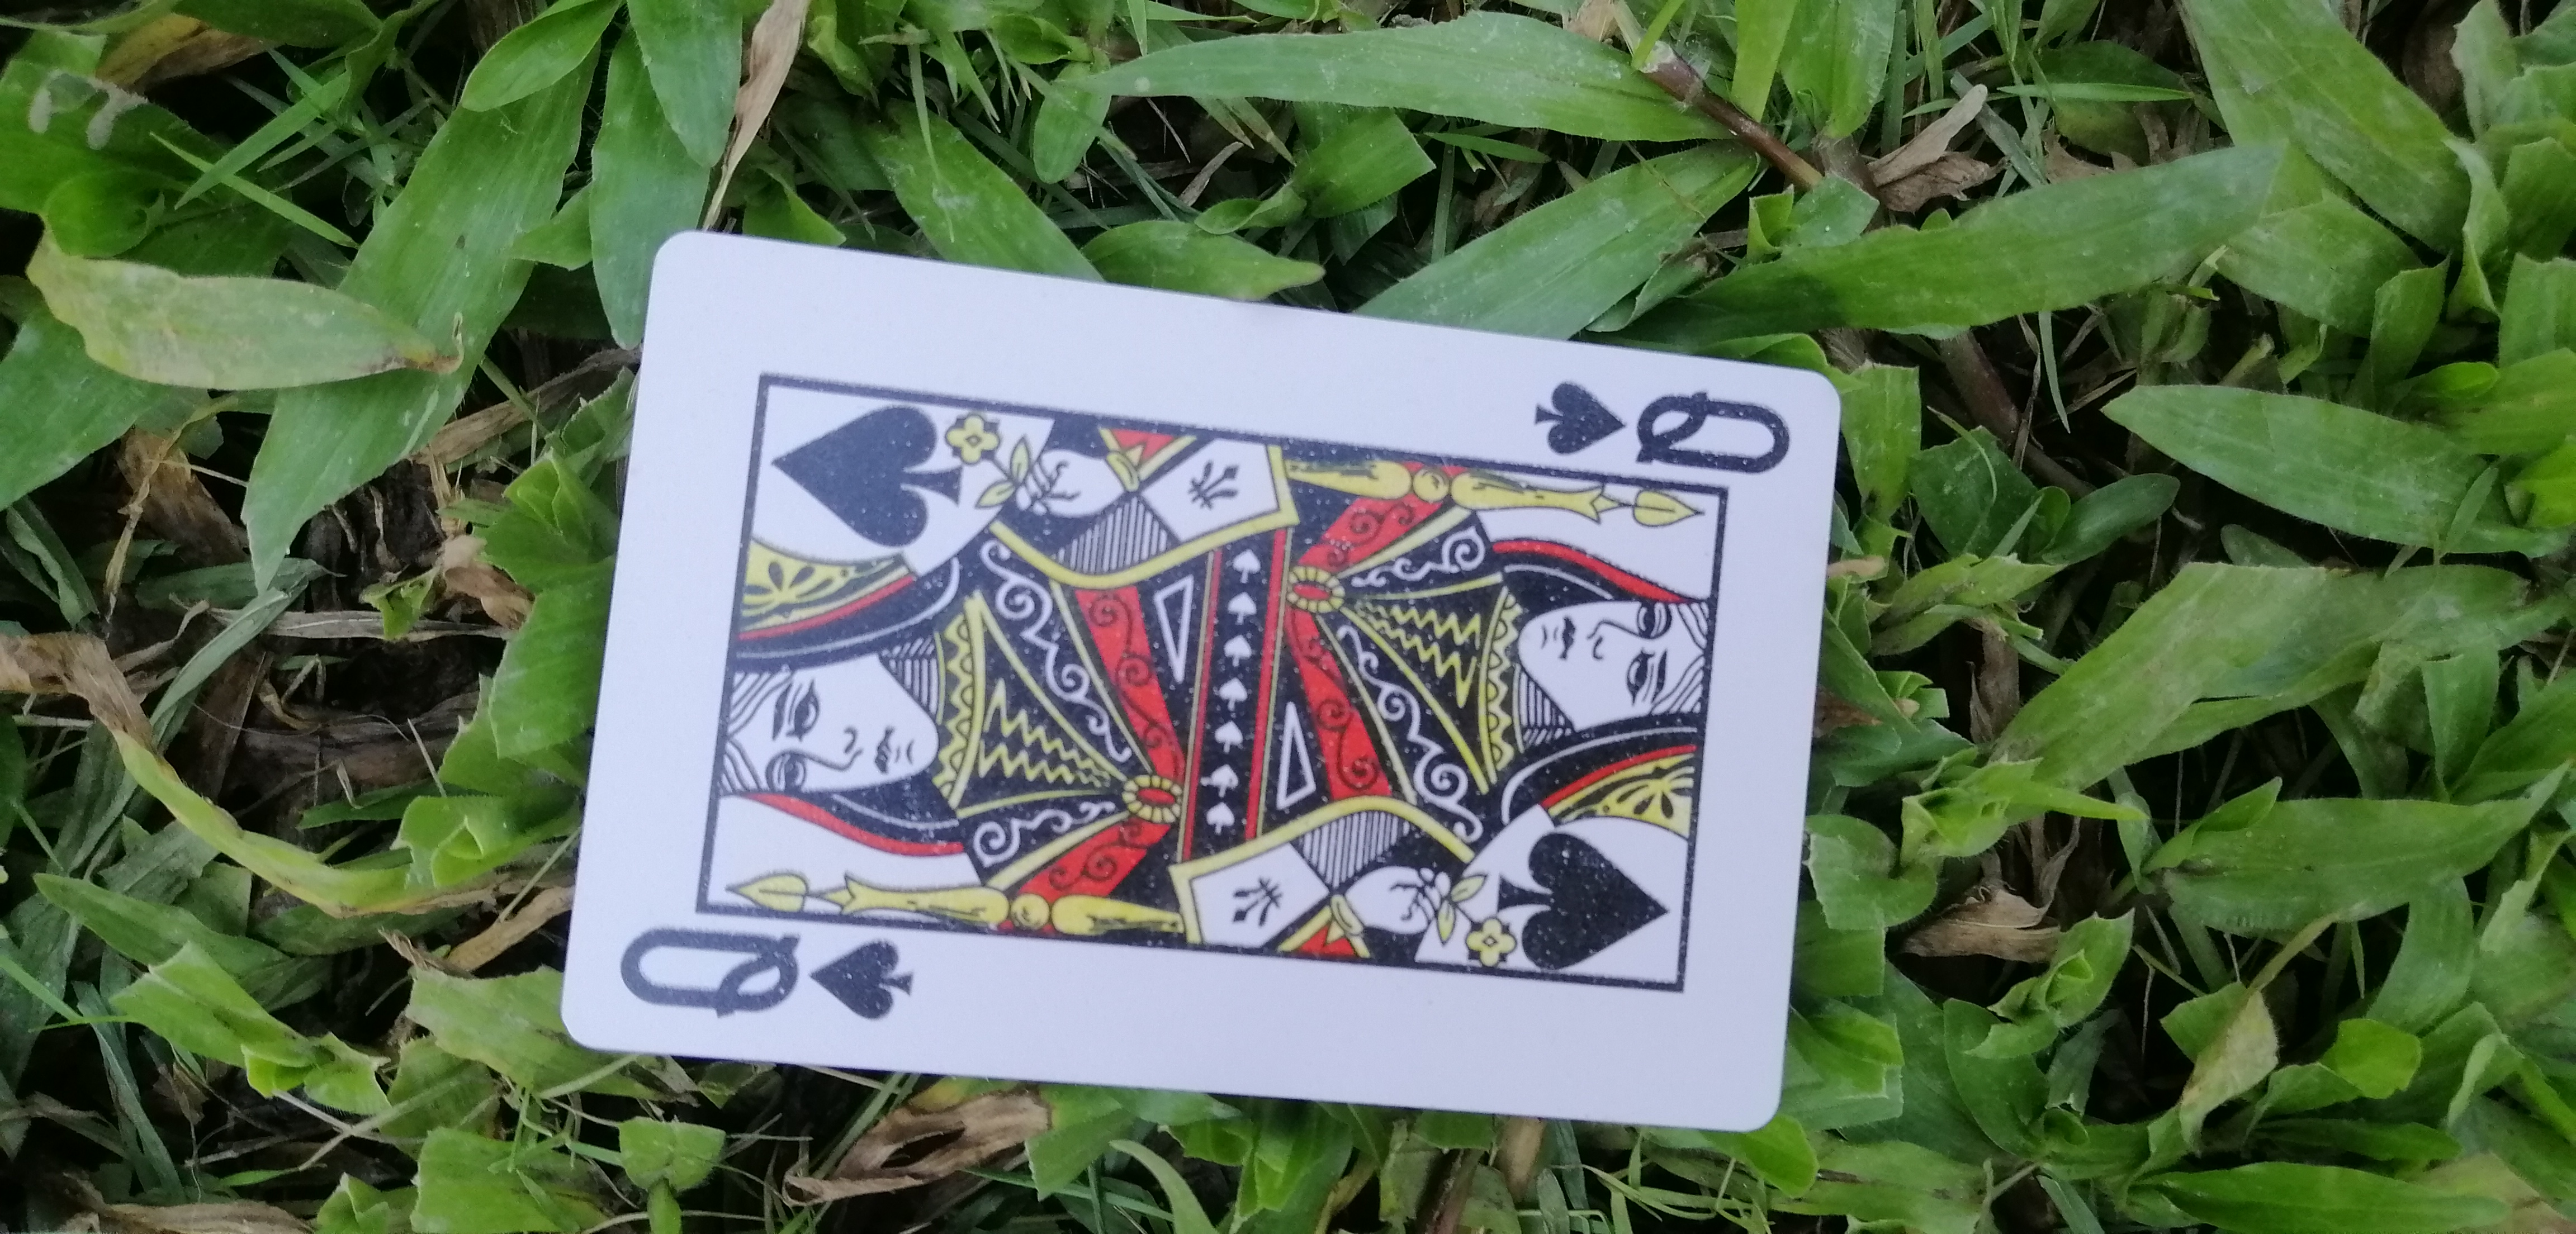queen: (563, 209, 1819, 1168)
